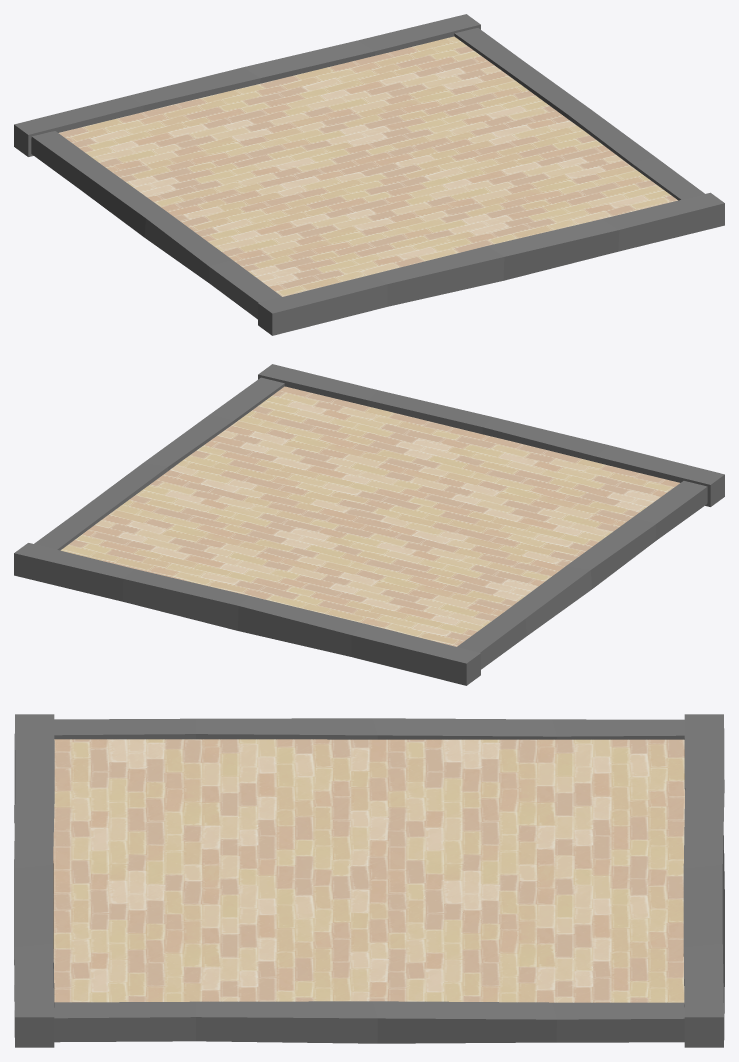
The model's file is SM_floor_01.fbx.
3 renders of one model, top to bottom at view 1: azimuth 30°, elevation 25°; view 2: azimuth 150°, elevation 25°; view 3: azimuth 270°, elevation 25°, orthographic. The views are drawn at different scales.
Parts seen in each view (by area): view 1: Plane129; view 2: Plane129; view 3: Plane129.
Part boxes in pixels (bbox=[...]): Plane129: bbox=[14, 14, 724, 335]; Plane129: bbox=[14, 364, 724, 685]; Plane129: bbox=[14, 714, 724, 1047].
Bounding box in the file's own units: 211 × 11.45 × 209.
